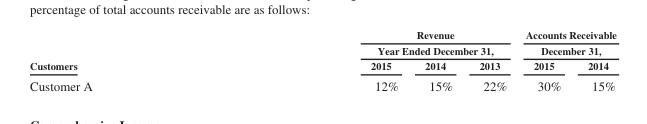table: (29, 28, 615, 92)
table column: (29, 28, 231, 92), (231, 28, 411, 92), (515, 28, 573, 92), (411, 28, 465, 92), (465, 28, 515, 92), (573, 28, 615, 92)
table column header: (29, 28, 615, 75)
table row: (29, 28, 615, 57), (29, 57, 615, 75), (29, 75, 615, 92)
table spanning cell: (29, 28, 231, 75), (231, 28, 515, 57), (515, 28, 615, 57)
